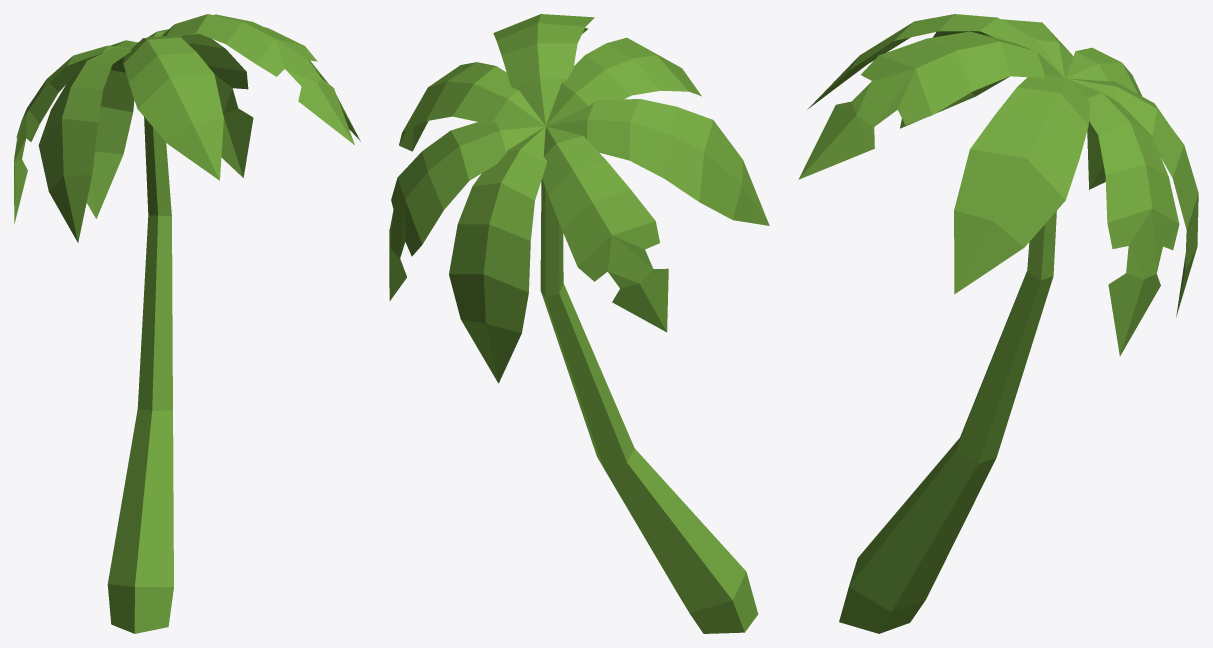
The model's file is oasis-palm-angle.fbx.
The picture shows the model from 3 angles, left to right: view 1: azimuth 30°, elevation 25°; view 2: azimuth 150°, elevation 25°; view 3: azimuth 270°, elevation 25°; orthographic projection. The views are drawn at different scales.
Parts seen in each view (by area): view 1: oasis-palm-angel; view 2: oasis-palm-angel; view 3: oasis-palm-angel.
Part boxes in pixels (left/top/right/bottom): oasis-palm-angel: left=14, top=14, right=360, bottom=633; oasis-palm-angel: left=389, top=14, right=769, bottom=633; oasis-palm-angel: left=798, top=14, right=1198, bottom=633.
Size of the model in its own units: 3.54 by 6.01 by 3.36.
